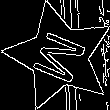M_SE: (26, 25, 92, 88)
